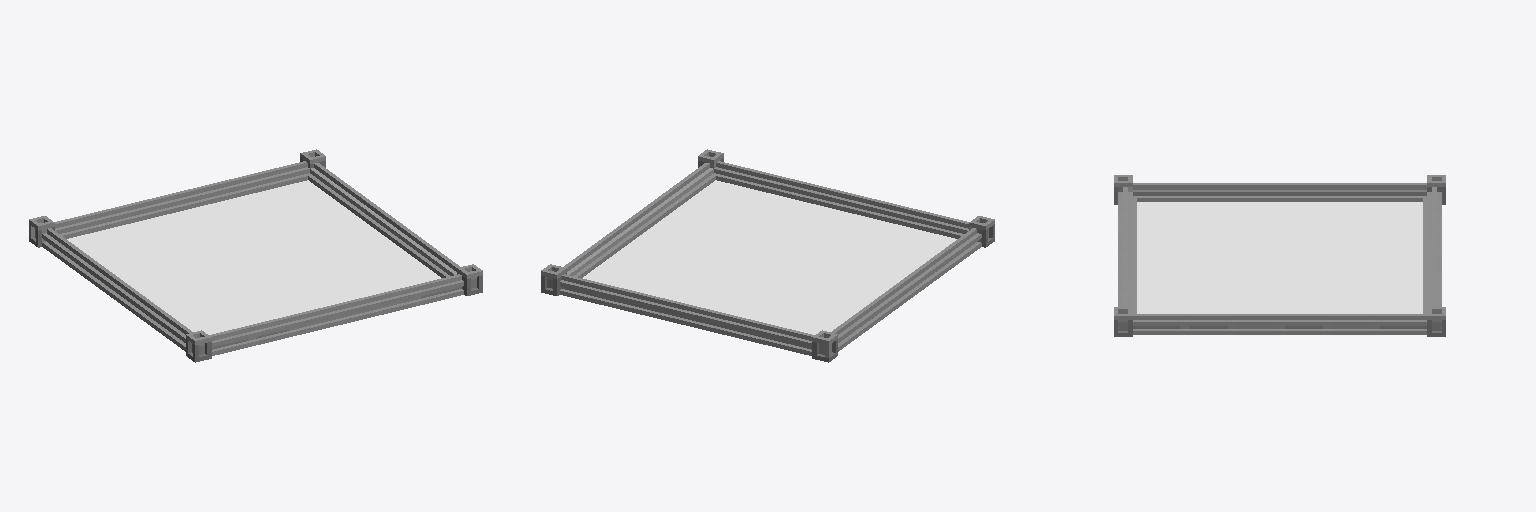
3 views of the same model, side by side, from view 1: azimuth 30°, elevation 25°; view 2: azimuth 150°, elevation 25°; view 3: azimuth 270°, elevation 25° (orthographic).
Size of the model in its own units: 70 by 5 by 70.
Materials: 1 (1 with a texture image).